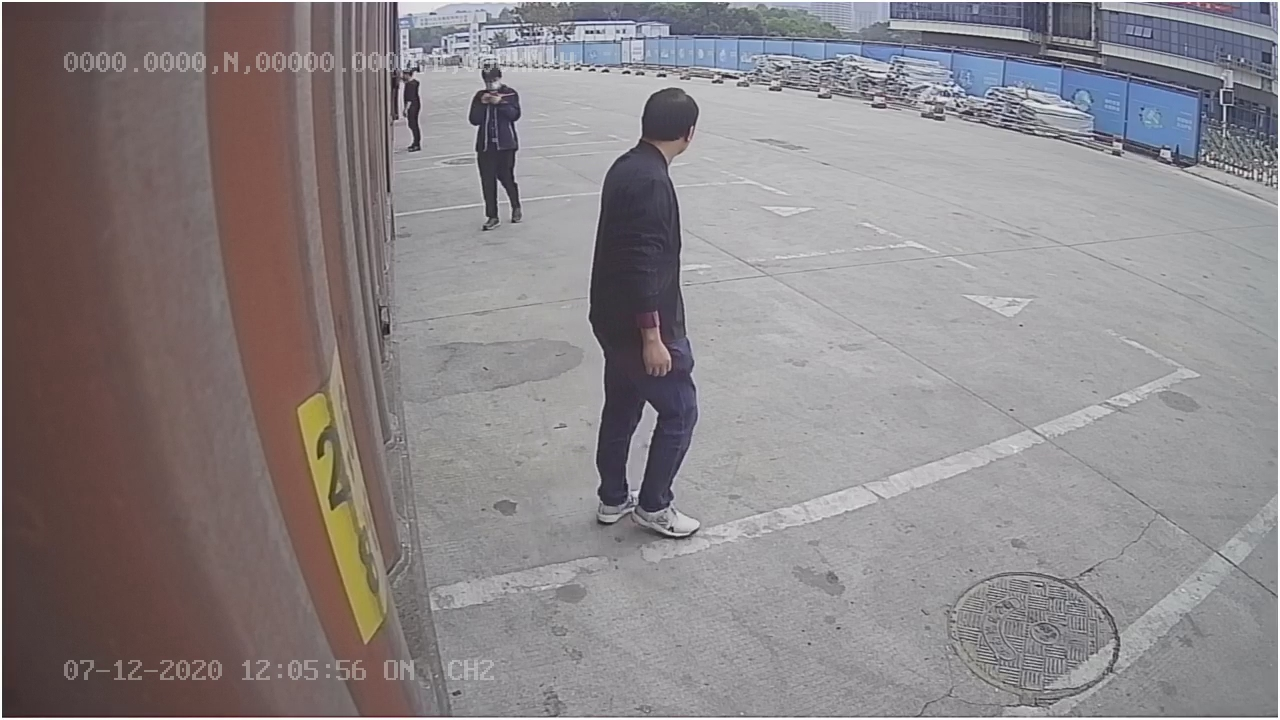person: (587, 80, 713, 540)
